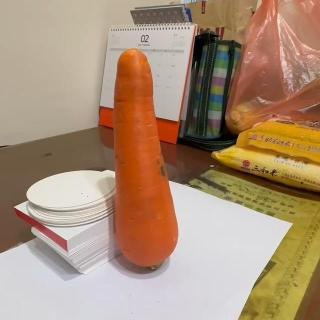carrot: (111, 48, 179, 266)
